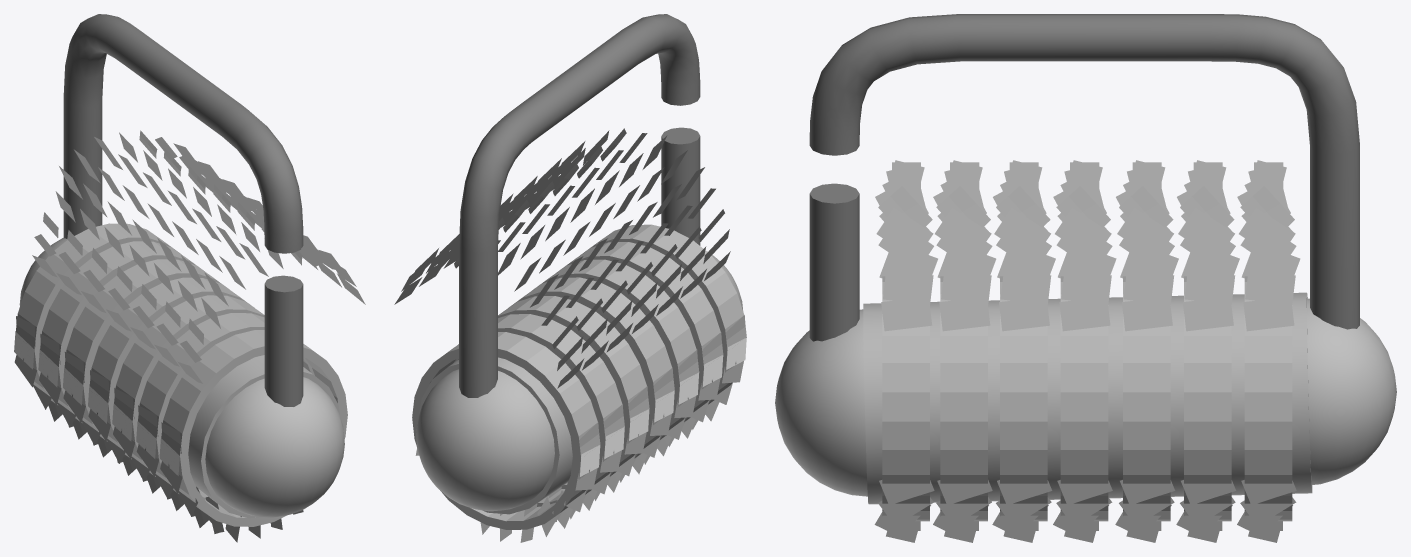
Rendered from LockBase_Final.fbx.
The picture shows the model from 3 angles, left to right: view 1: azimuth 30°, elevation 25°; view 2: azimuth 150°, elevation 25°; view 3: azimuth 270°, elevation 25°; orthographic projection. The views are drawn at different scales.
Visible parts, largest first — view 1: Line003, Ends_1, LockKeys__5_, LockKeys__2_, LockKeys__3_, LockKeys__1_, LockKeys__6_, LockKeys, LockKeys__4_, Cylinder, Plane_1, Plane_66 (+5 smaller); view 2: Line003, Ends, LockKeys__6_, LockKeys__3_, LockKeys__1_, LockKeys__2_, LockKeys, LockKeys__4_, LockKeys__5_, Cylinder, Plane_27, Plane_53 (+5 smaller); view 3: Line003, Cylinder, Ends_1, Ends, LockKeys__1_, LockKeys__6_, LockKeys__4_, LockKeys__5_, LockKeys, LockKeys__3_, LockKeys__2_, Plane__2__6 (+41 smaller).
Boxes of the visible parts, bbox=[...] form: Line003: bbox=[63, 14, 303, 406]; Ends_1: bbox=[205, 377, 344, 517]; LockKeys__5_: bbox=[161, 330, 347, 526]; LockKeys__2_: bbox=[64, 259, 229, 441]; LockKeys__3_: bbox=[40, 241, 204, 422]; LockKeys__1_: bbox=[89, 277, 254, 459]; LockKeys__6_: bbox=[15, 223, 180, 404]; LockKeys: bbox=[114, 295, 264, 476]; LockKeys__4_: bbox=[138, 313, 314, 499]; Cylinder: bbox=[188, 355, 340, 518]; Plane_1: bbox=[112, 404, 132, 441]; Plane_66: bbox=[38, 349, 58, 387]; Line003: bbox=[459, 14, 700, 397]; Ends: bbox=[416, 369, 554, 511]; LockKeys__6_: bbox=[412, 332, 600, 529]; LockKeys__3_: bbox=[453, 314, 624, 506]; LockKeys__1_: bbox=[509, 277, 674, 458]; LockKeys__2_: bbox=[498, 296, 649, 488]; LockKeys: bbox=[533, 259, 699, 439]; LockKeys__4_: bbox=[559, 242, 723, 421]; LockKeys__5_: bbox=[581, 224, 746, 404]; Cylinder: bbox=[418, 357, 572, 514]; Plane_27: bbox=[726, 337, 746, 369]; Plane_53: bbox=[629, 409, 649, 440]; Line003: bbox=[809, 14, 1359, 341]; Cylinder: bbox=[863, 292, 1312, 504]; Ends_1: bbox=[775, 309, 867, 496]; Ends: bbox=[1307, 298, 1396, 484]; LockKeys__1_: bbox=[1060, 276, 1108, 521]; LockKeys__6_: bbox=[1244, 276, 1292, 521]; LockKeys__4_: bbox=[940, 276, 987, 521]; LockKeys__5_: bbox=[882, 276, 929, 521]; LockKeys: bbox=[1000, 276, 1047, 521]; LockKeys__3_: bbox=[1184, 276, 1231, 521]; LockKeys__2_: bbox=[1123, 276, 1170, 521]; Plane__2__6: bbox=[1245, 270, 1295, 304].
Size of the model in its own units: 5.64 by 11.93 by 13.05.
